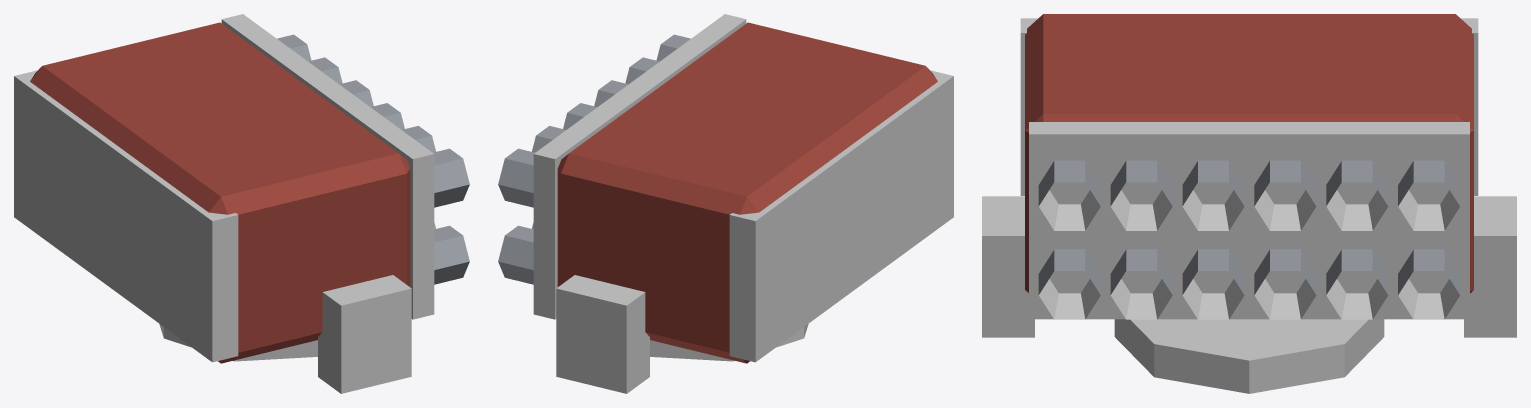
The model's file is rocketswarm_top_empty.obj.
3 views of the same model, side by side, from view 1: azimuth 30°, elevation 25°; view 2: azimuth 150°, elevation 25°; view 3: azimuth 270°, elevation 25° (orthographic). The views are drawn at different scales.
Parts seen in each view (by area): view 1: rocketswarm_top_empty; view 2: rocketswarm_top_empty; view 3: rocketswarm_top_empty.
Part boxes in pixels (bbox=[...]): rocketswarm_top_empty: bbox=[14, 14, 469, 393]; rocketswarm_top_empty: bbox=[498, 14, 953, 393]; rocketswarm_top_empty: bbox=[982, 14, 1516, 393].
Size of the model in its own units: 0.865 by 0.67 by 1.31.
